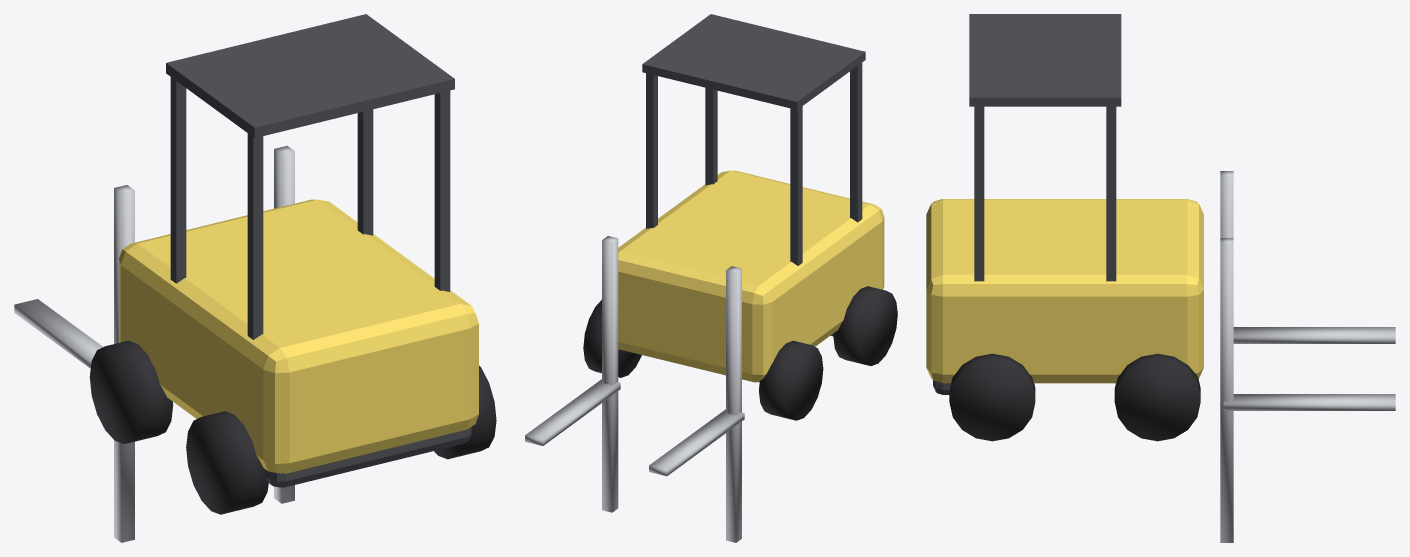
File: Forklift.fbx
3 views of the same model, side by side, from view 1: azimuth 30°, elevation 25°; view 2: azimuth 150°, elevation 25°; view 3: azimuth 270°, elevation 25° (orthographic). The views are drawn at different scales.
Visible parts, largest first — view 1: Yellow.002, Dark.008, Rubber, Metal.001; view 2: Yellow.002, Dark.008, Metal.001, Rubber; view 3: Yellow.002, Dark.008, Rubber, Metal.001.
Boxes of the visible parts, bbox=[...] form: Yellow.002: bbox=[119, 199, 478, 473]; Dark.008: bbox=[166, 14, 471, 487]; Rubber: bbox=[89, 340, 496, 514]; Metal.001: bbox=[14, 145, 294, 542]; Yellow.002: bbox=[618, 170, 884, 382]; Dark.008: bbox=[642, 14, 865, 336]; Metal.001: bbox=[525, 236, 744, 542]; Rubber: bbox=[583, 286, 897, 420]; Yellow.002: bbox=[926, 199, 1203, 383]; Dark.008: bbox=[933, 14, 1121, 394]; Rubber: bbox=[949, 353, 1200, 441]; Metal.001: bbox=[1220, 171, 1395, 542].
Size of the model in its own units: 3.9 by 7.52 by 7.1.
